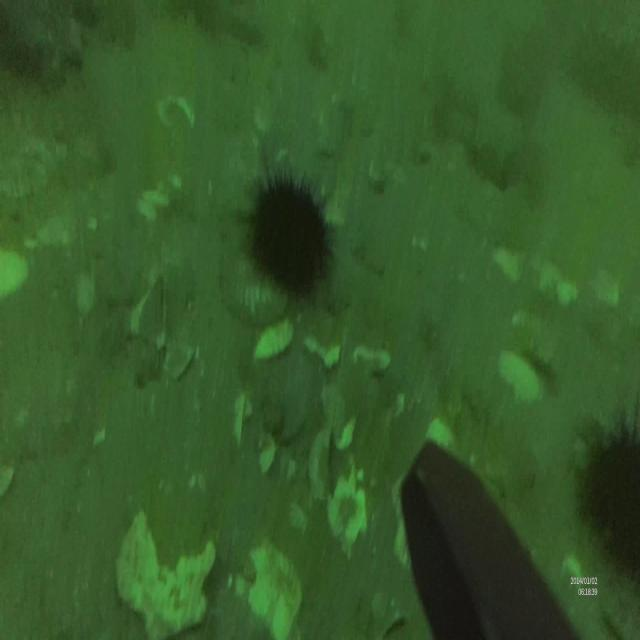echinus: (250, 160, 334, 298), (586, 416, 640, 582)
scallop: (220, 534, 306, 640)
